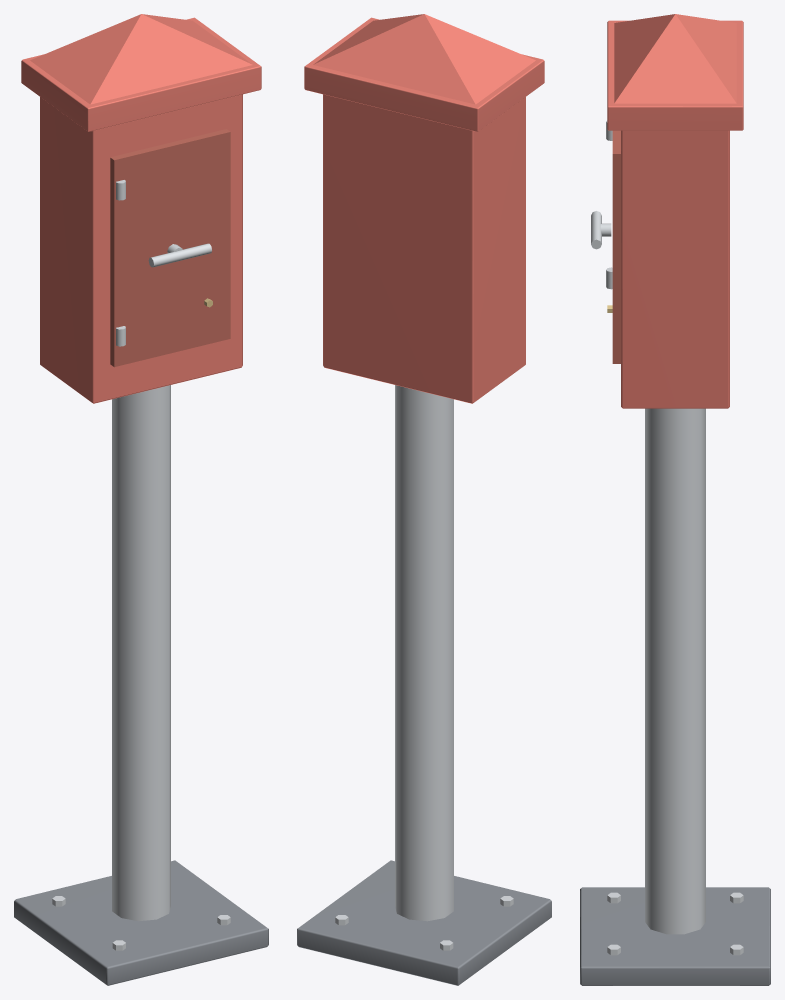
File: FireAlarm_Box.fbx
3 views of the same model, side by side, from view 1: azimuth 30°, elevation 25°; view 2: azimuth 150°, elevation 25°; view 3: azimuth 270°, elevation 25° (orthographic).
Parts seen in each view (by area): view 1: LOD0; view 2: LOD0; view 3: LOD0.
Part boxes in pixels (left/top/right/bottom): LOD0: left=14, top=14, right=268, bottom=985; LOD0: left=297, top=14, right=551, bottom=985; LOD0: left=580, top=14, right=770, bottom=985.
Size of what is drawn, in the model's own units: 30 by 151 by 28.
